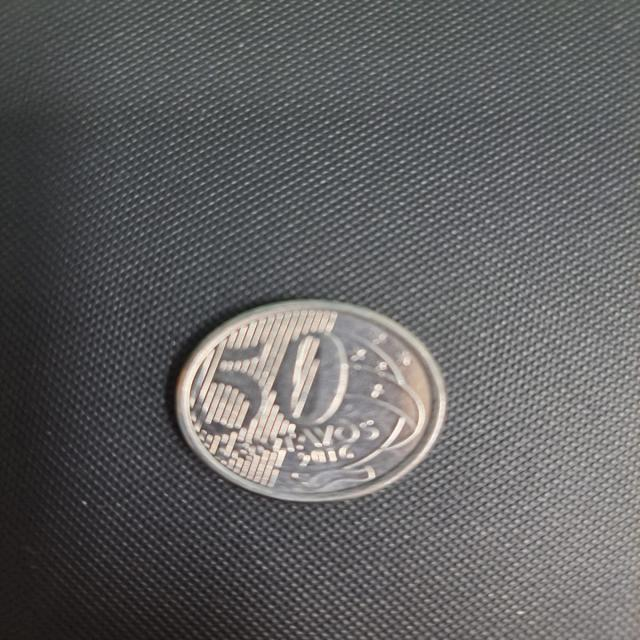50 cents: (167, 290, 457, 504)
